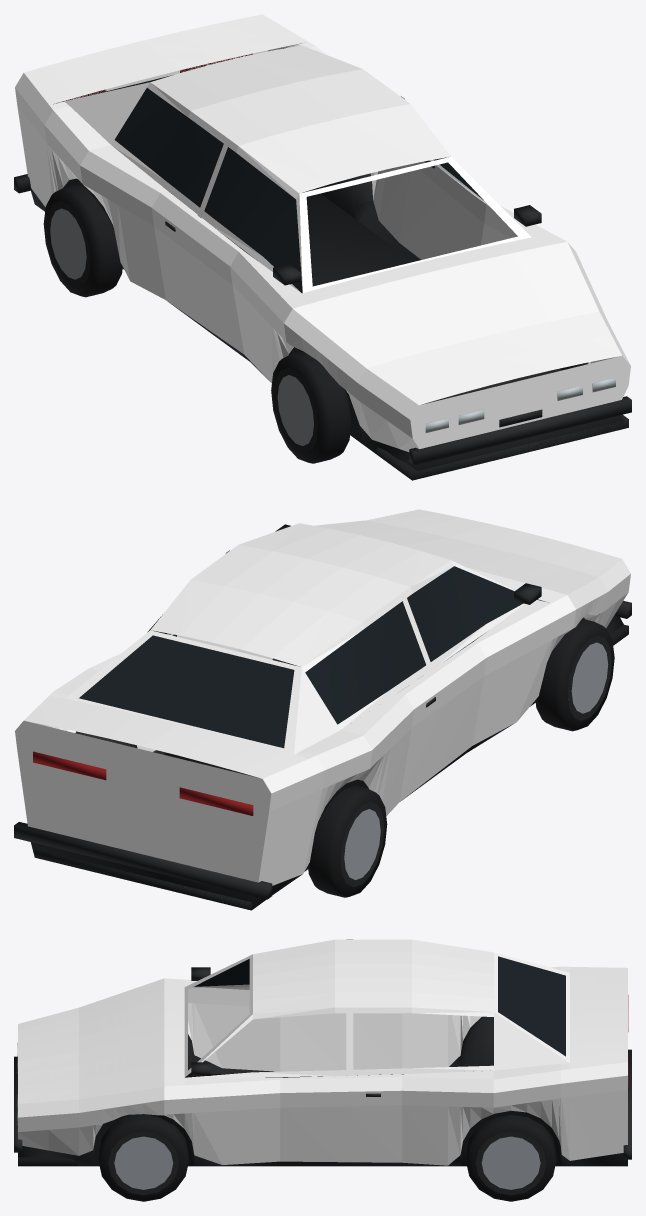
The model's file is feldhaus_corisco.glb.
3 renders of one model, top to bottom at view 1: azimuth 30°, elevation 25°; view 2: azimuth 150°, elevation 25°; view 3: azimuth 270°, elevation 25°, orthographic. The views are drawn at different scales.
Visible parts, largest first — view 1: Body_Paint, Body_Details, Mount_FrontLeft_Wheel_Details, Mount_RearLeft_Wheel_Details; view 2: Body_Paint, Body_Details, Mount_RearLeft_Wheel_Details, Mount_FrontLeft_Wheel_Details; view 3: Body_Paint, Body_Details, Mount_FrontRight_Wheel_Details, Mount_RearRight_Wheel_Details.
Boxes of the visible parts, bbox=[...] form: Body_Paint: bbox=[15, 14, 630, 451]; Body_Details: bbox=[14, 47, 631, 480]; Mount_FrontLeft_Wheel_Details: bbox=[271, 351, 351, 463]; Mount_RearLeft_Wheel_Details: bbox=[43, 184, 122, 297]; Body_Paint: bbox=[15, 509, 630, 885]; Body_Details: bbox=[14, 524, 631, 910]; Mount_RearLeft_Wheel_Details: bbox=[308, 785, 387, 897]; Mount_FrontLeft_Wheel_Details: bbox=[535, 618, 614, 731]; Body_Paint: bbox=[18, 939, 627, 1165]; Body_Details: bbox=[14, 956, 631, 1166]; Mount_FrontRight_Wheel_Details: bbox=[98, 1114, 188, 1201]; Mount_RearRight_Wheel_Details: bbox=[465, 1115, 556, 1201].
Size of the model in its own units: 1.84 by 1.3 by 4.16.
Materials: 2 (1 with a texture image).
